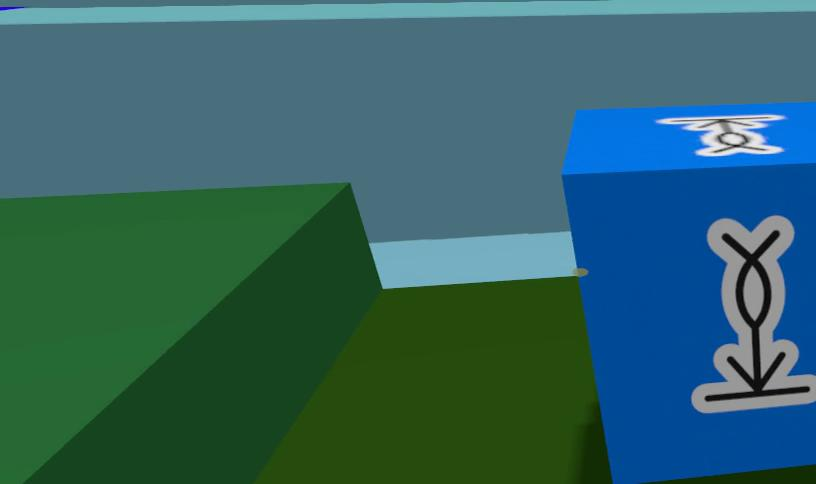KFS_REAL: (562, 103, 816, 484), (694, 216, 816, 413), (658, 115, 785, 156)
